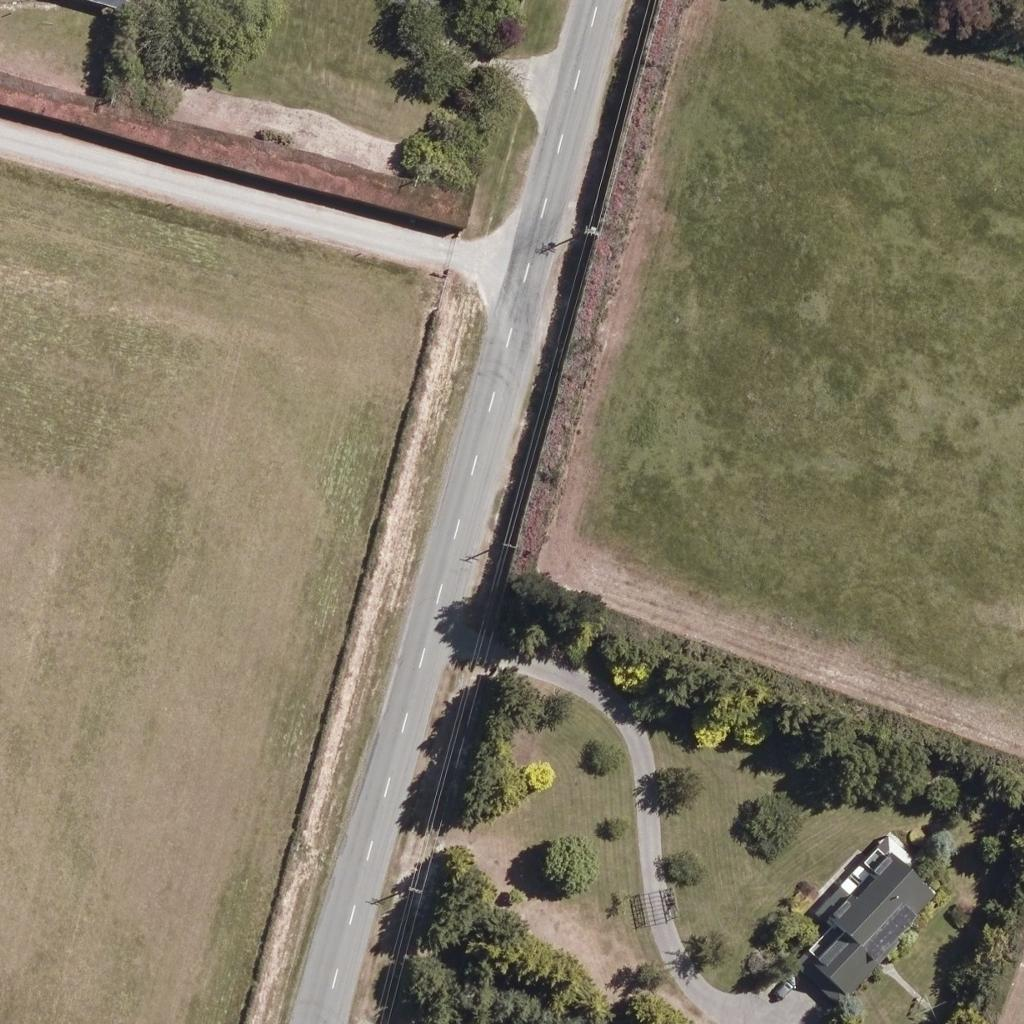car: (768, 970, 802, 1004)
